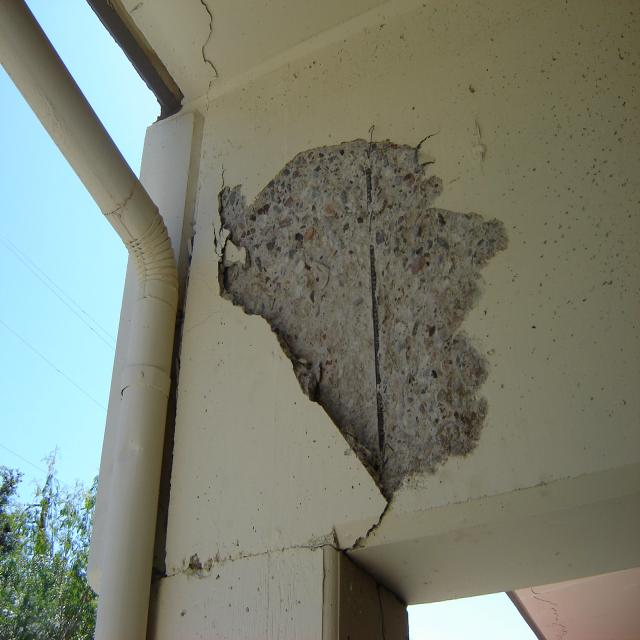Spalling: (217, 131, 519, 466)
Wall_Cracks: (162, 0, 248, 98), (331, 490, 405, 567)
